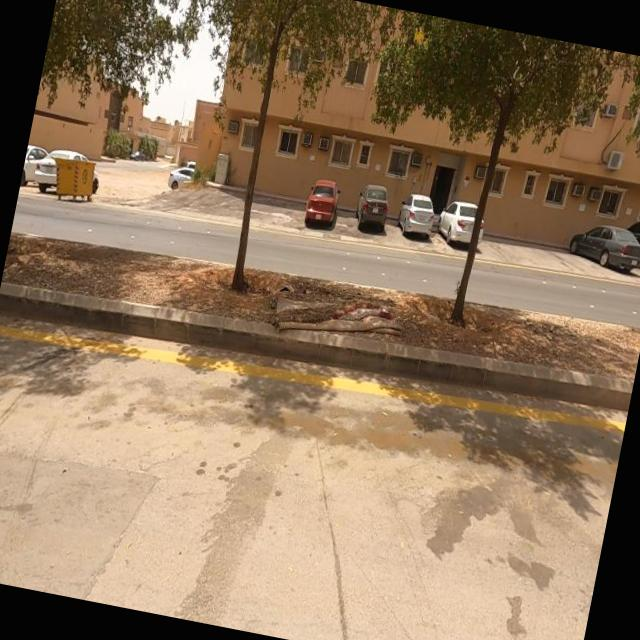debris: (200, 213, 472, 421)
